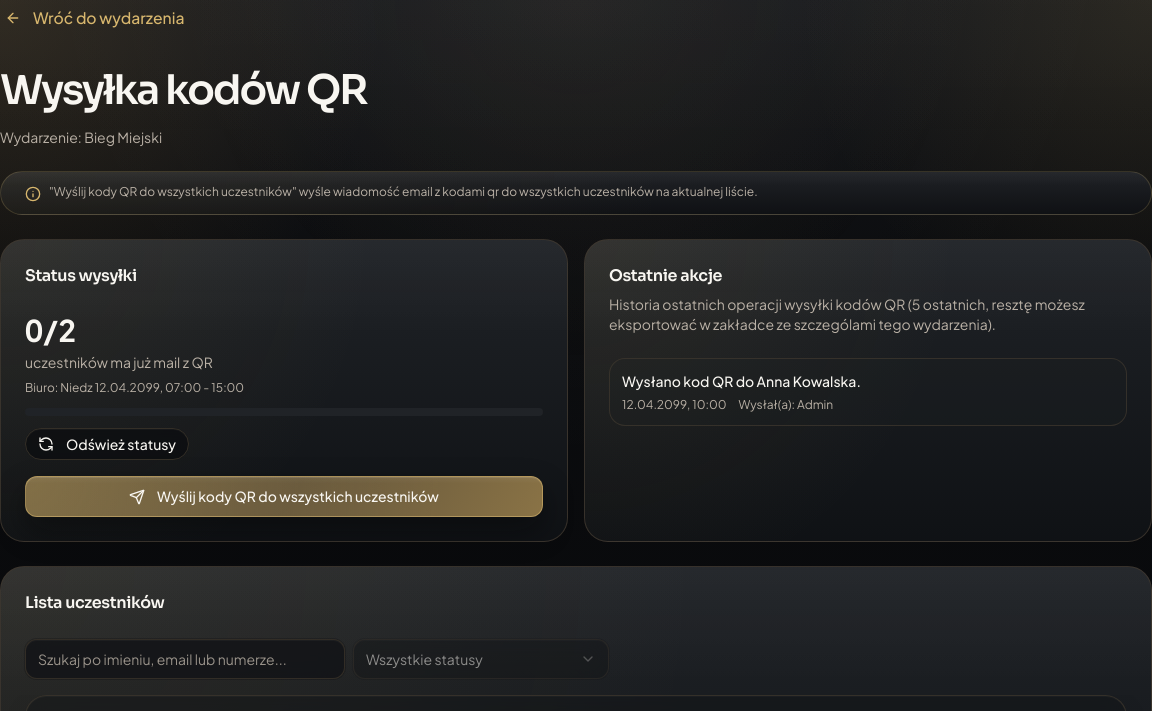
Test case: EmailSending page › skips the unpaid note when every pending participant is paid
What coordinates should you click on to do the following:
click the button "Wyślij kody QR do wszystkich uczestników"
I would click on:
 (284, 497)
Its box is [25,476,543,518].
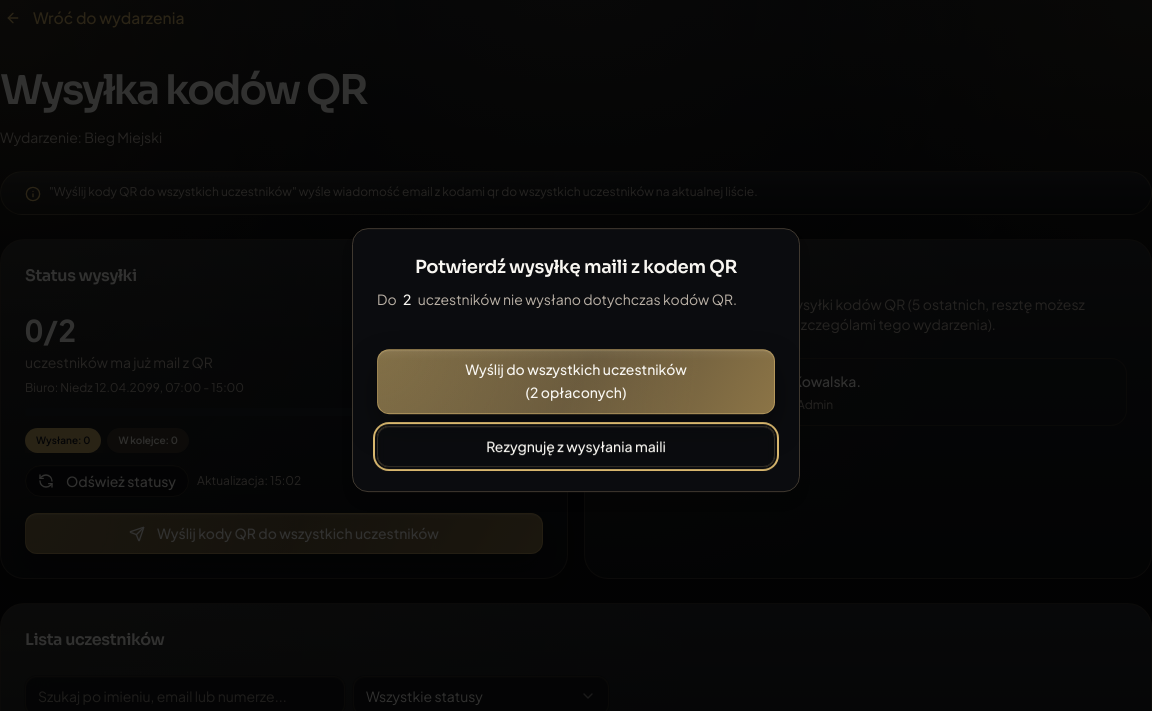
Expected: the dialog does not show "nieopłaconych", [352,228,800,492]
Expected: the dialog shows "Do 2 uczestników nie wysłano dotychczas kodów QR.", [352,228,800,492]
